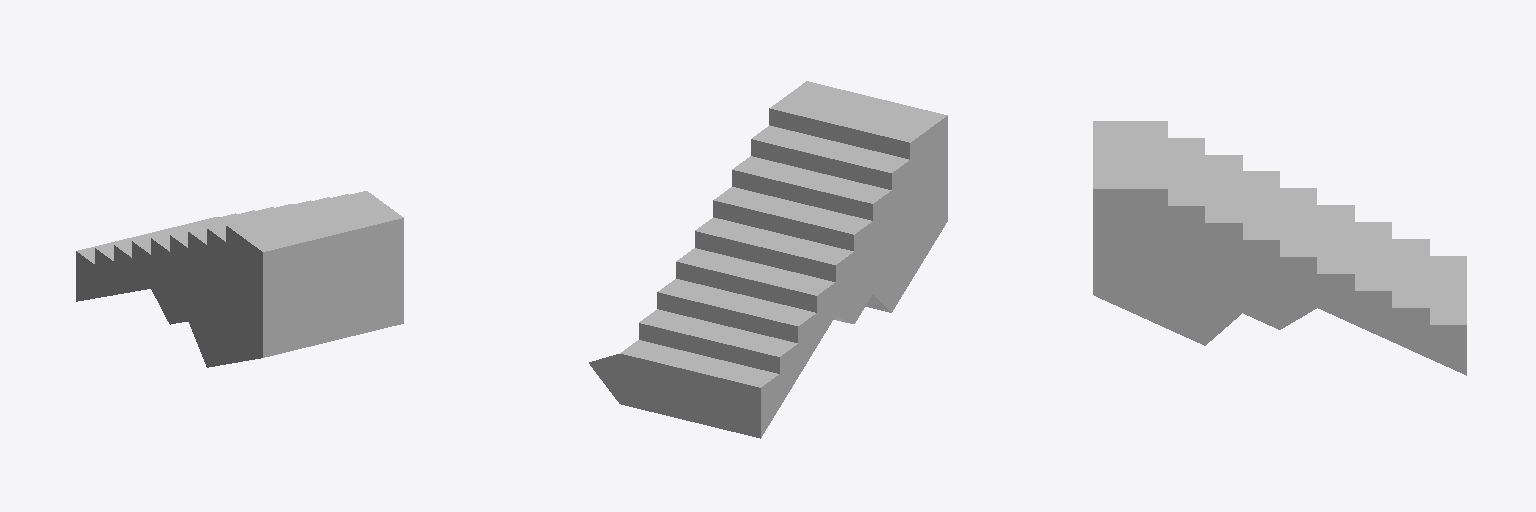
Rendered from Stairs (88).obj.
The picture shows the model from 3 angles: view 1: azimuth 30°, elevation 25°; view 2: azimuth 150°, elevation 25°; view 3: azimuth 270°, elevation 25°; orthographic projection.
Visible parts, largest first — view 1: Stairs (88); view 2: Stairs (88); view 3: Stairs (88).
Boxes of the visible parts, box(x1,y1,x2,y2) form: Stairs (88): box(76, 191, 403, 367); Stairs (88): box(589, 81, 947, 438); Stairs (88): box(1093, 121, 1466, 375).
Bounding box in the file's own units: 2.67 × 2.75 × 5.